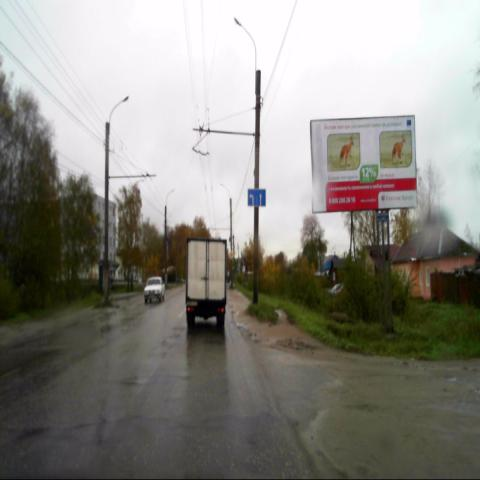5_15_2_2: (247, 186, 267, 208)
